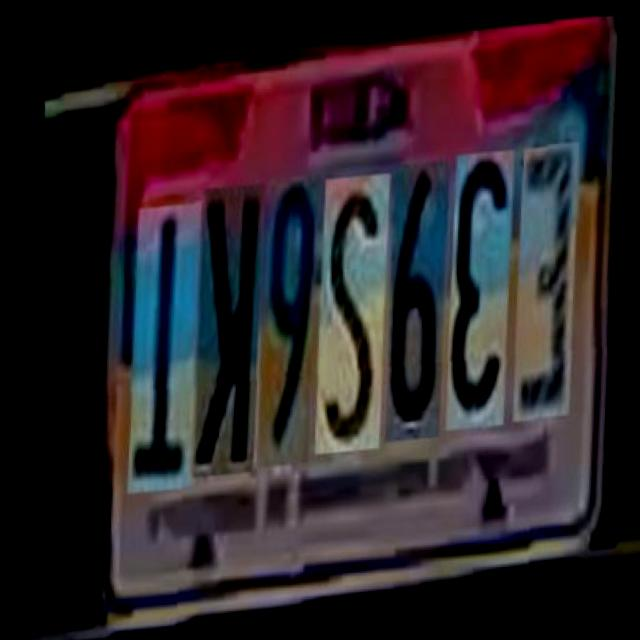3: (426, 143, 514, 425)
6: (237, 162, 318, 458)
9: (364, 152, 448, 435)
e: (493, 138, 577, 418)
k: (172, 172, 263, 467)
s: (295, 164, 388, 446)
t: (108, 188, 201, 480)
